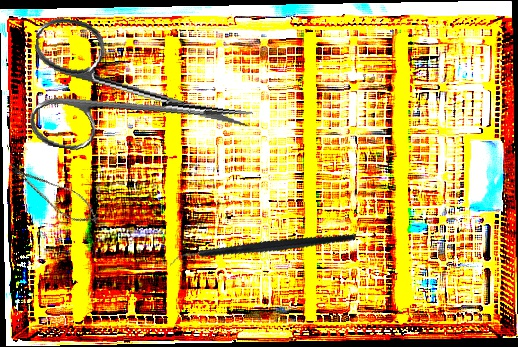Chopper: (169, 192, 356, 310)
Iris Scissors: (18, 14, 264, 180)
Micro Scissor: (0, 154, 107, 234)
